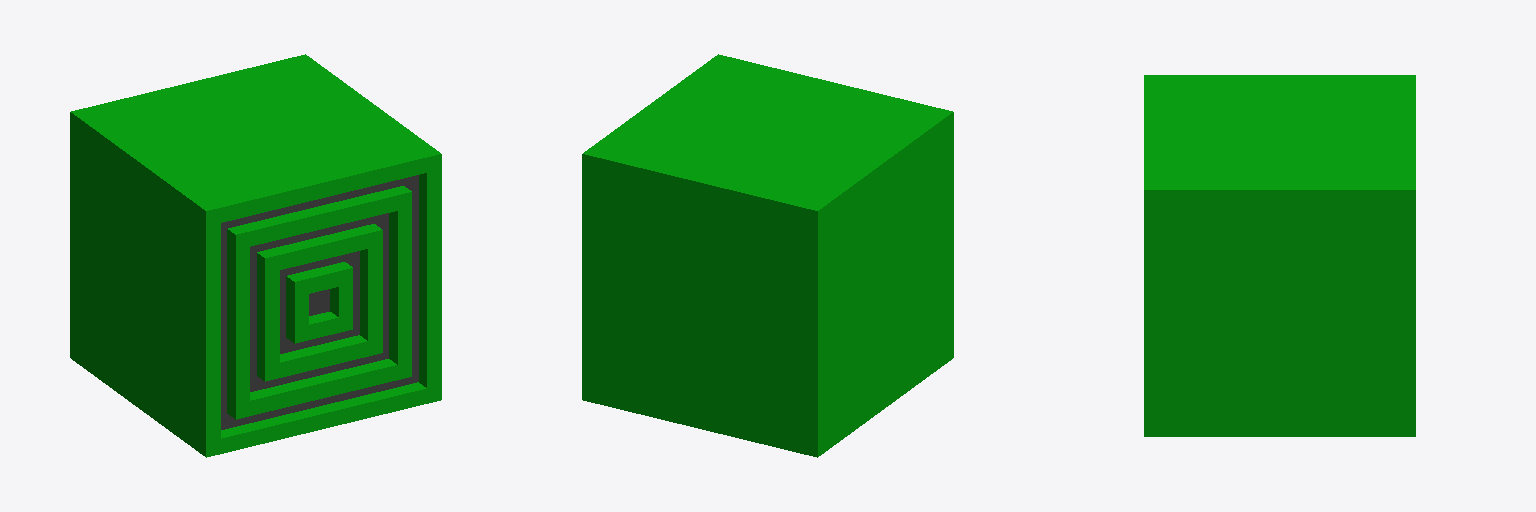
The picture shows the model from 3 angles: view 1: azimuth 30°, elevation 25°; view 2: azimuth 150°, elevation 25°; view 3: azimuth 270°, elevation 25°; orthographic projection.
Visible parts, largest first — view 1: untitled.001; view 2: untitled.001; view 3: untitled.001.
Part boxes in pixels (bbox=[...]): untitled.001: bbox=[70, 54, 441, 457]; untitled.001: bbox=[582, 54, 953, 457]; untitled.001: bbox=[1144, 75, 1415, 436].
Size of the model in its own units: 0.1 by 0.1 by 0.1.
Materials: 1 (1 with a texture image).